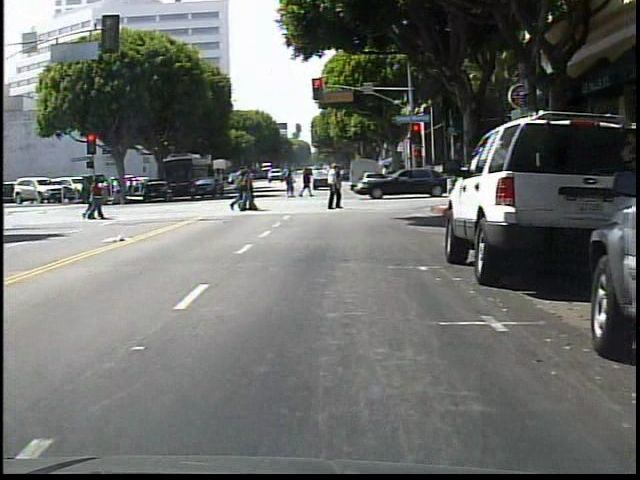person: (322, 160, 347, 213)
